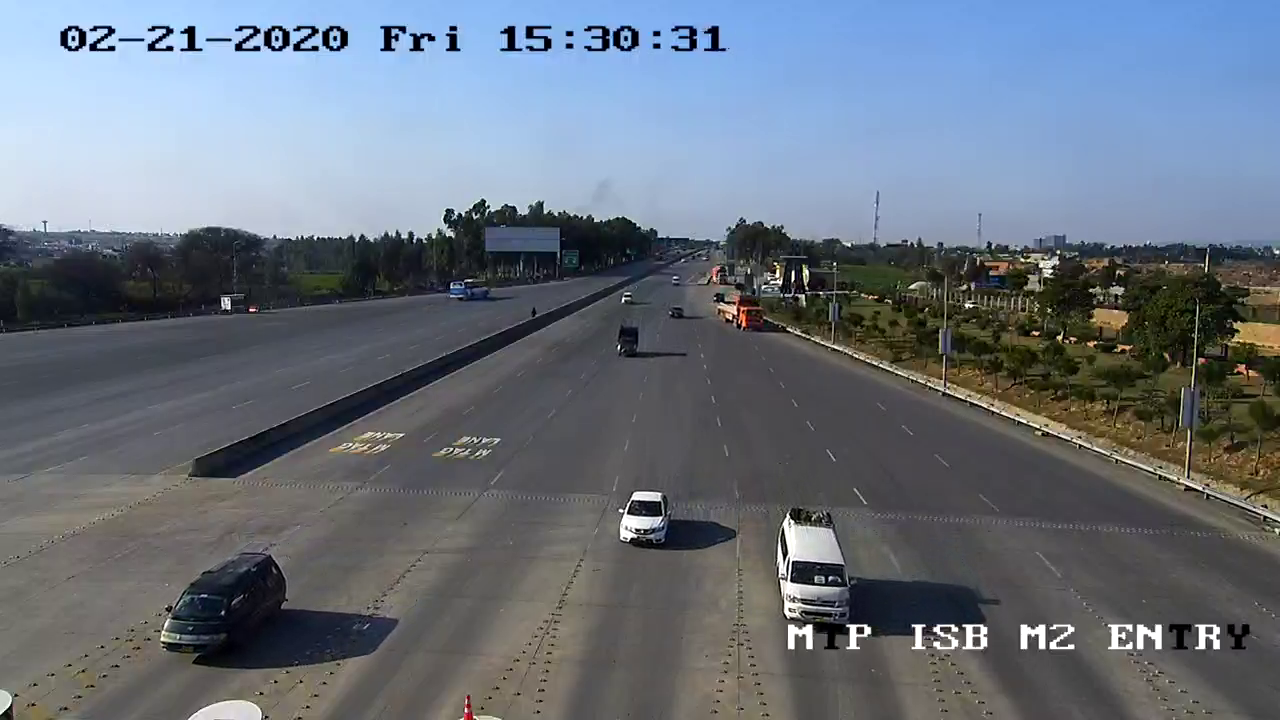f1: (605, 482, 675, 561)
f2: (140, 540, 294, 674), (772, 505, 865, 634)
